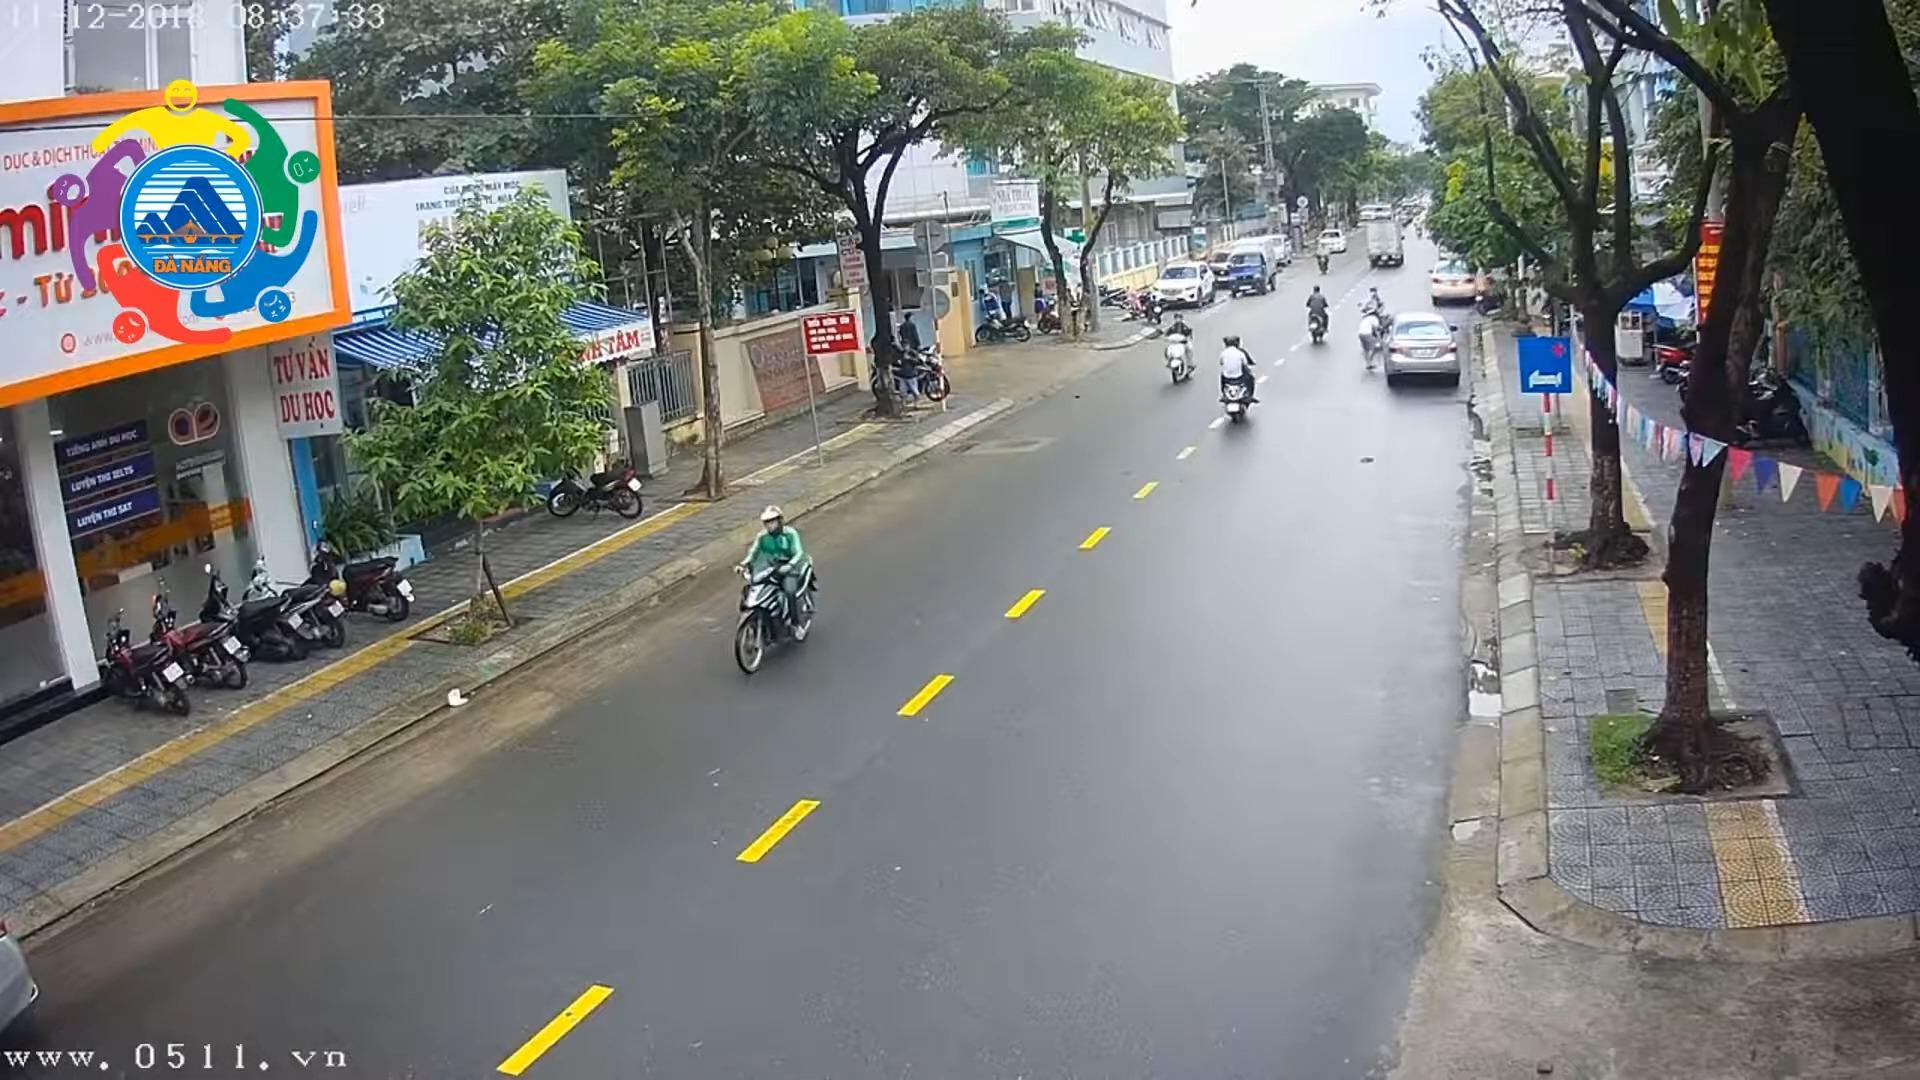car: (1379, 305, 1462, 390), (1150, 255, 1216, 307), (1425, 256, 1486, 306)
motorcycle: (719, 504, 831, 680), (295, 517, 417, 626), (202, 554, 310, 663), (100, 601, 193, 720), (149, 588, 249, 695), (239, 554, 347, 644), (549, 455, 641, 524), (873, 334, 955, 398), (1212, 332, 1259, 427), (1156, 310, 1199, 386), (1303, 281, 1345, 348), (1309, 241, 1338, 277)
truck: (1225, 241, 1283, 298), (1365, 219, 1411, 269)
